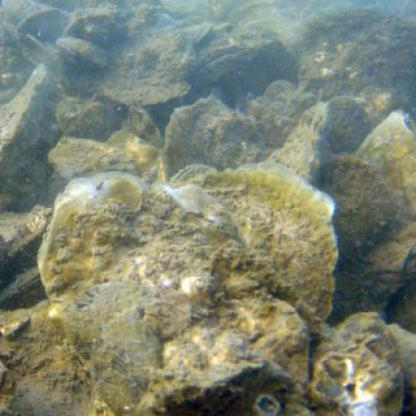Oyster- Indeterminate: (41, 179, 319, 416), (192, 163, 340, 324), (187, 44, 250, 85)
Oyster-Closed: (339, 113, 416, 324), (312, 311, 405, 416), (318, 157, 391, 262), (165, 100, 264, 177), (0, 68, 50, 171), (272, 107, 333, 182), (47, 137, 137, 179), (325, 98, 368, 149), (56, 37, 111, 70), (17, 9, 67, 42)
